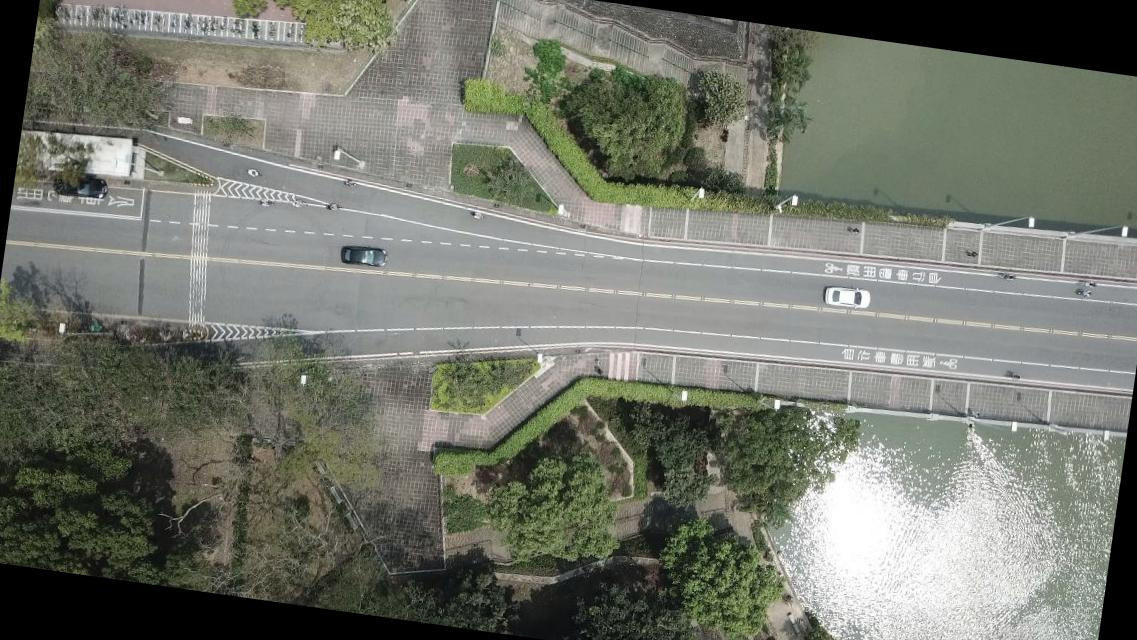vehicle: (48, 172, 108, 202), (338, 242, 388, 270), (822, 284, 871, 312)
